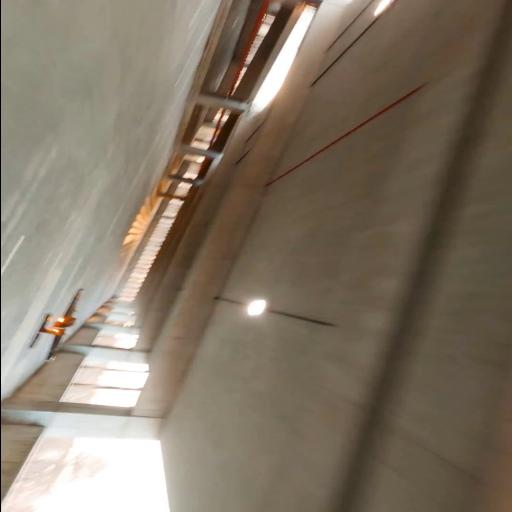uav: (25, 286, 87, 366)
